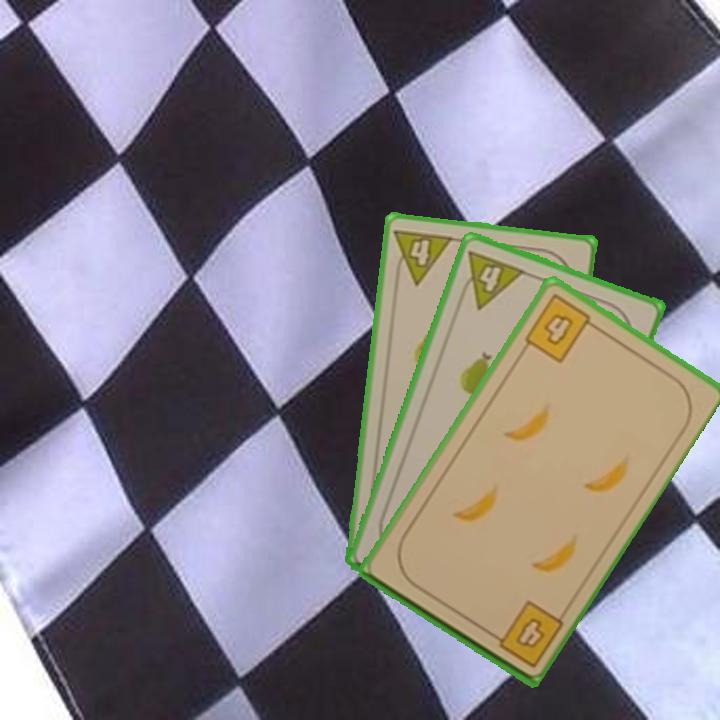4b: (520, 290, 601, 366), (484, 596, 566, 671)
4p: (454, 246, 528, 312), (390, 225, 456, 288)
